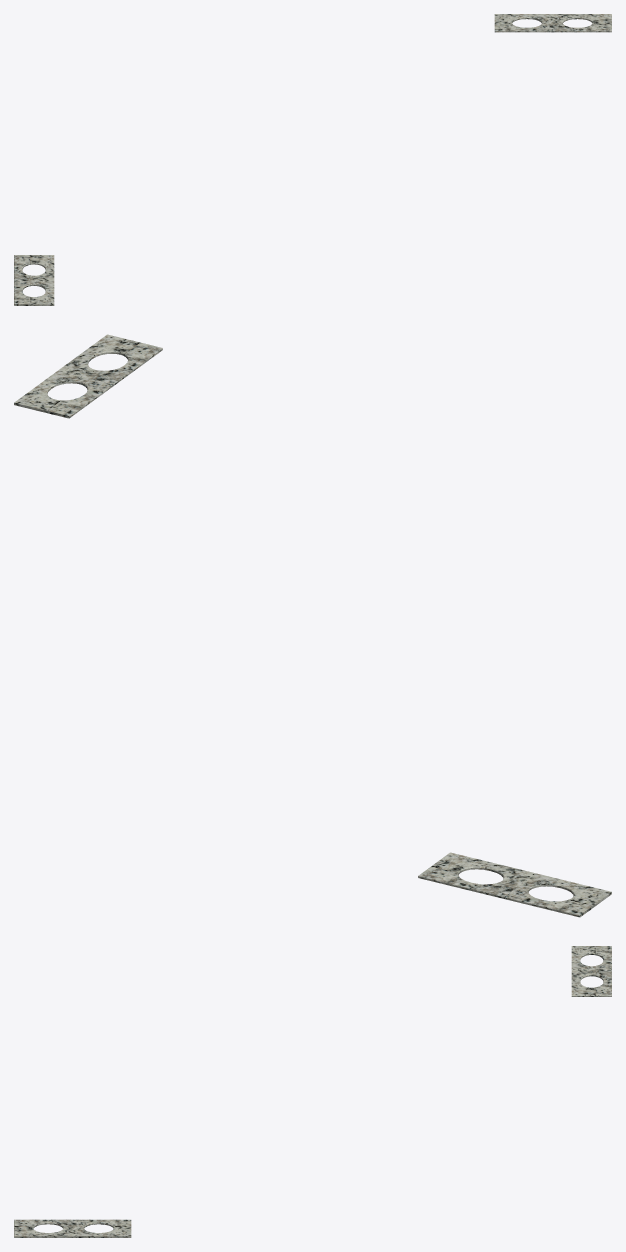
Rendered from Countertops_Granite_Valle_Nevado.glb.
The picture shows the model from 3 angles, top to bottom: view 1: azimuth 90°, elevation 25°; view 2: azimuth 150°, elevation 25°; view 3: azimuth 270°, elevation 25°; orthographic projection. The views are drawn at different scales.
Parts seen in each view (by area): view 1: Countertop_granite_valle_nevado; view 2: Countertop_granite_valle_nevado; view 3: Countertop_granite_valle_nevado.
Part boxes in pixels (bbox=[...]): Countertop_granite_valle_nevado: bbox=[14, 14, 611, 305]; Countertop_granite_valle_nevado: bbox=[14, 334, 611, 917]; Countertop_granite_valle_nevado: bbox=[14, 946, 611, 1237].
Size of the model in its own units: 17 by 0.04 by 14.8.
1 material, 1 textured.
